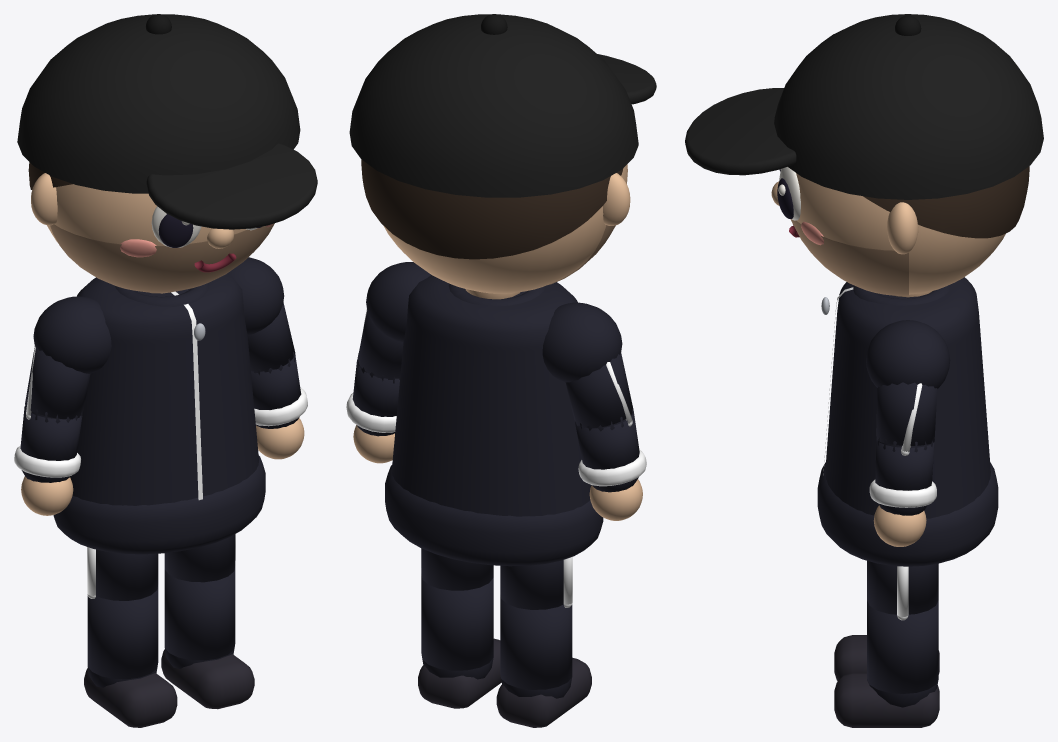
The model's file is ch_gopnik.fbx.
3 renders of one model, left to right at view 1: azimuth 30°, elevation 25°; view 2: azimuth 150°, elevation 25°; view 3: azimuth 270°, elevation 25°, orthographic. The views are drawn at different scales.
Parts seen in each view (by area): view 1: ch_gopnik; view 2: ch_gopnik; view 3: ch_gopnik.
Part boxes in pixels (<box>): ch_gopnik: <box>14,14,317,727</box>; ch_gopnik: <box>346,14,656,727</box>; ch_gopnik: <box>685,14,1043,727</box>.
Size of the model in its own units: 0.7038 by 1.6 by 0.762.
